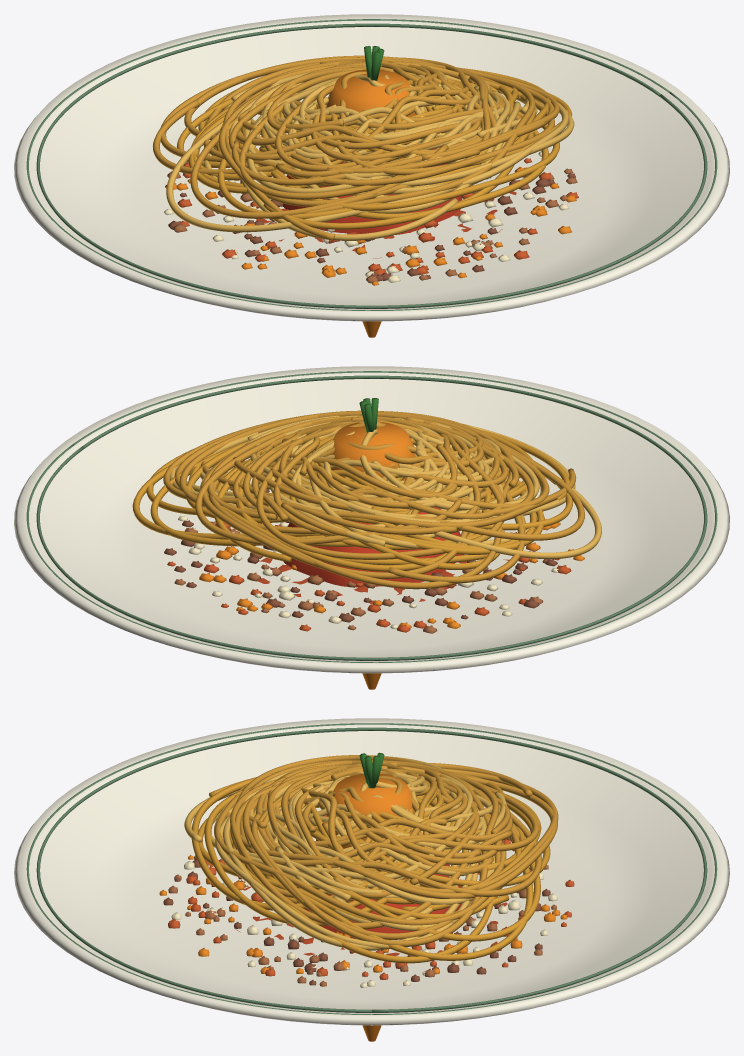
File: food-kit.glb
3 renders of one model, top to bottom at view 1: azimuth 30°, elevation 25°; view 2: azimuth 150°, elevation 25°; view 3: azimuth 270°, elevation 25°, orthographic.
Visible parts, largest first — view 1: plate_porcelain, spaghetti_pasta_gold, spaghetti_pasta_light, spaghetti_pasta, plate_rim, carrot_carrot, pan_ragu_carrot, pan_ragu_ragu_light, pan_ragu_meat, pan_ragu_onion, pan_ragu_meat_light, tomato_tomato (+1 smaller); view 2: plate_porcelain, spaghetti_pasta_gold, spaghetti_pasta, spaghetti_pasta_light, plate_rim, carrot_carrot, pan_ragu_meat, pan_ragu_meat_light, tomato_tomato, pan_ragu_carrot, pan_ragu_ragu_light, pan_ragu_onion (+1 smaller); view 3: plate_porcelain, spaghetti_pasta_gold, spaghetti_pasta_light, spaghetti_pasta, plate_rim, carrot_carrot, pan_ragu_ragu_light, pan_ragu_carrot, pan_ragu_onion, pan_ragu_meat_light, pan_ragu_meat, tomato_tomato (+1 smaller).
Part boxes in pixels (box(x1,y1,x2,y2)): plate_porcelain: box(14, 14, 729, 321); spaghetti_pasta_gold: box(152, 55, 559, 240); spaghetti_pasta_light: box(166, 68, 574, 240); spaghetti_pasta: box(176, 67, 572, 229); plate_rim: box(26, 19, 717, 310); carrot_carrot: box(326, 69, 415, 337); pan_ragu_carrot: box(165, 138, 576, 285); pan_ragu_ragu_light: box(177, 147, 578, 275); pan_ragu_meat: box(168, 173, 575, 281); pan_ragu_onion: box(164, 151, 569, 282); pan_ragu_meat_light: box(167, 148, 577, 283); tomato_tomato: box(283, 139, 461, 234); plate_porcelain: box(14, 366, 729, 673); spaghetti_pasta_gold: box(163, 410, 584, 589); spaghetti_pasta: box(132, 428, 572, 571); spaghetti_pasta_light: box(170, 413, 601, 559); plate_rim: box(26, 371, 717, 662); carrot_carrot: box(331, 421, 414, 689); pan_ragu_meat: box(164, 489, 557, 622); pan_ragu_meat_light: box(174, 488, 549, 633); tomato_tomato: box(282, 507, 463, 587); pan_ragu_carrot: box(194, 493, 584, 628); pan_ragu_ragu_light: box(167, 502, 571, 632); pan_ragu_onion: box(178, 496, 569, 629); plate_porcelain: box(14, 718, 729, 1025); spaghetti_pasta_gold: box(209, 755, 558, 946); spaghetti_pasta_light: box(184, 756, 506, 950); spaghetti_pasta: box(191, 771, 550, 963); plate_rim: box(26, 723, 717, 1014); carrot_carrot: box(326, 774, 414, 1041); pan_ragu_ragu_light: box(168, 815, 574, 979); pan_ragu_carrot: box(159, 823, 567, 974); pan_ragu_onion: box(171, 860, 557, 987); pan_ragu_meat_light: box(168, 838, 556, 986); pan_ragu_meat: box(163, 858, 550, 985); tomato_tomato: box(305, 864, 461, 938).
Size of the model in its own units: 4.7 by 2.07 by 4.7.
